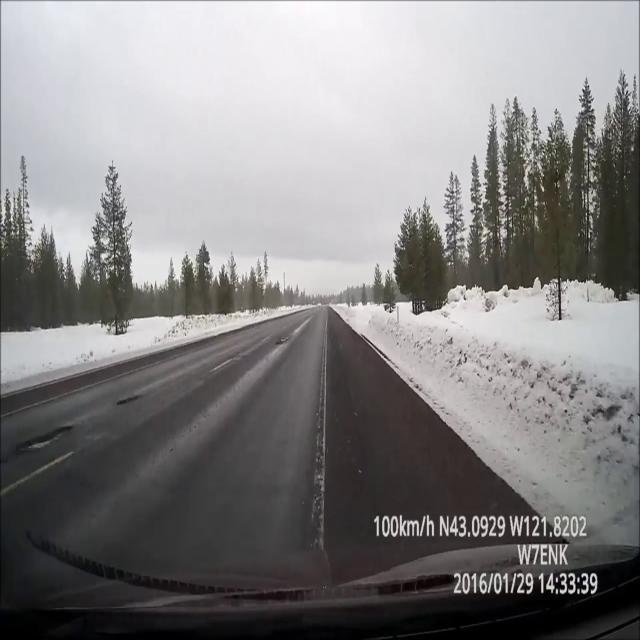pothole: (0, 420, 75, 462), (106, 379, 151, 418), (267, 323, 292, 358)
